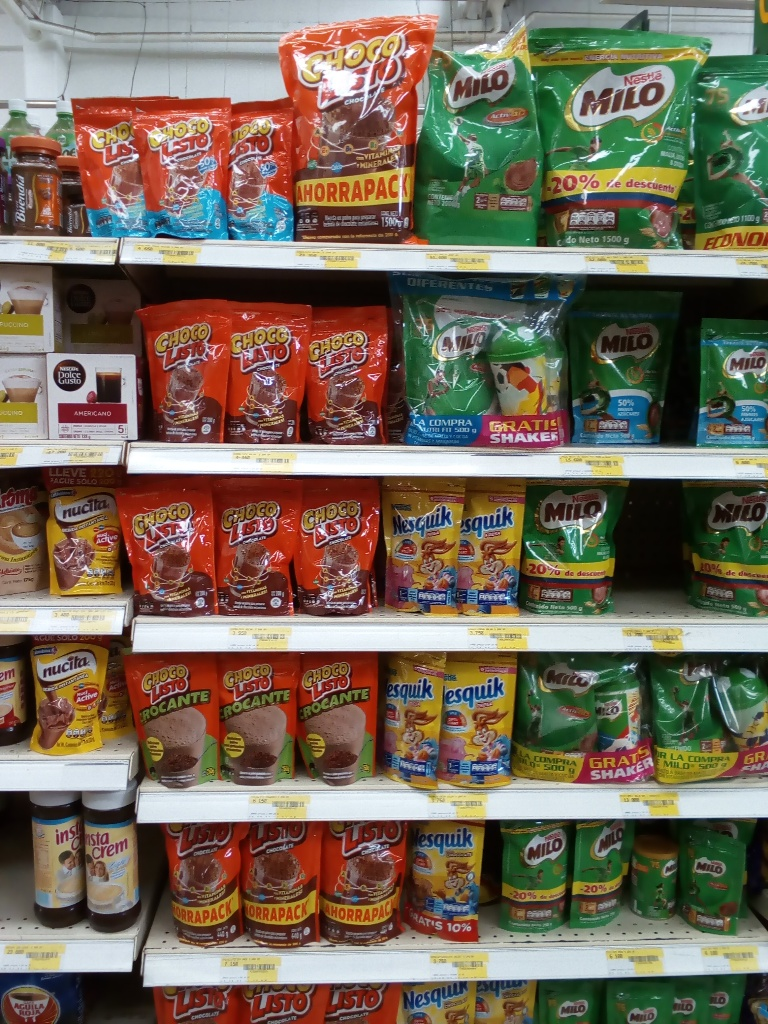COL0170102DYP25000: (295, 652, 378, 784)
COL0170103DYP1,500: (272, 13, 431, 246)
COL0170103DYP44000: (319, 820, 411, 945)
COL0170104DYP20000: (230, 99, 297, 242)
COL0170203DYP10000: (677, 828, 744, 937)
COL0170203DYP25000: (573, 818, 636, 930)
COL0170203DYP50000: (527, 477, 625, 615)
COL0170203LAT20000: (632, 835, 679, 919)
COL0170205DYP20000: (697, 316, 768, 452)
COL0170205DYP50000: (401, 296, 501, 419)
COL0170305DYP20000: (440, 652, 519, 789)
